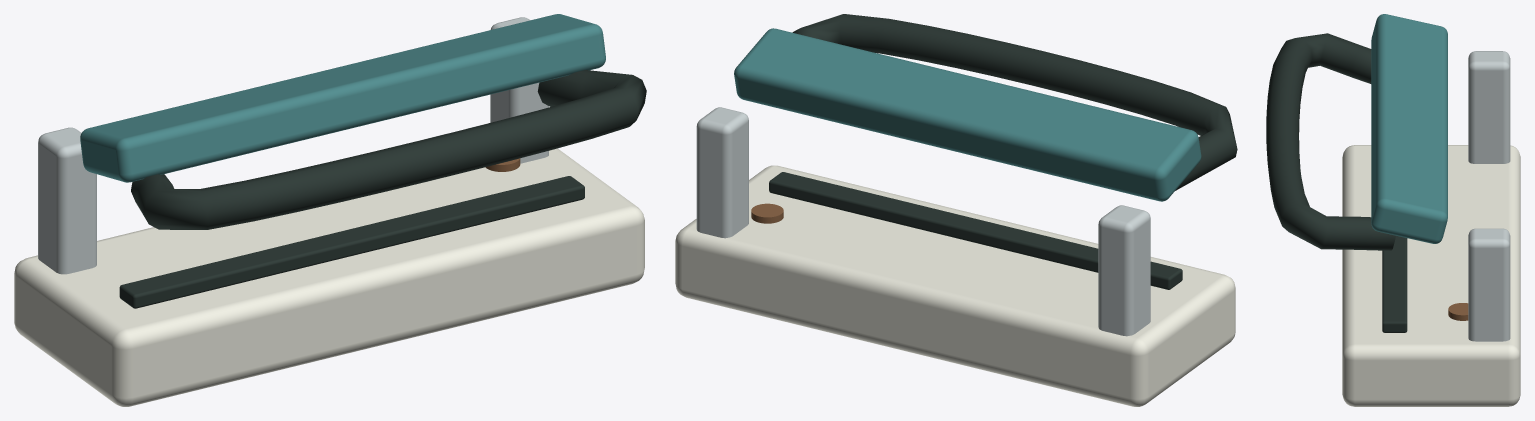
The model's file is mushroom-farm-and-grow-rooms-bag-sealing-press-e7048399__30810.glb.
3 views of the same model, side by side, from view 1: azimuth 30°, elevation 25°; view 2: azimuth 150°, elevation 25°; view 3: azimuth 270°, elevation 25° (orthographic). The views are drawn at different scales.
Visible parts, largest first — view 1: bag-sealing-press; view 2: bag-sealing-press; view 3: bag-sealing-press.
Part boxes in pixels (bbox=[...]): bag-sealing-press: bbox=[14, 14, 646, 406]; bag-sealing-press: bbox=[675, 14, 1237, 406]; bag-sealing-press: bbox=[1266, 14, 1520, 406].
Size of the model in its own units: 0.47 by 0.2106 by 0.2425.
